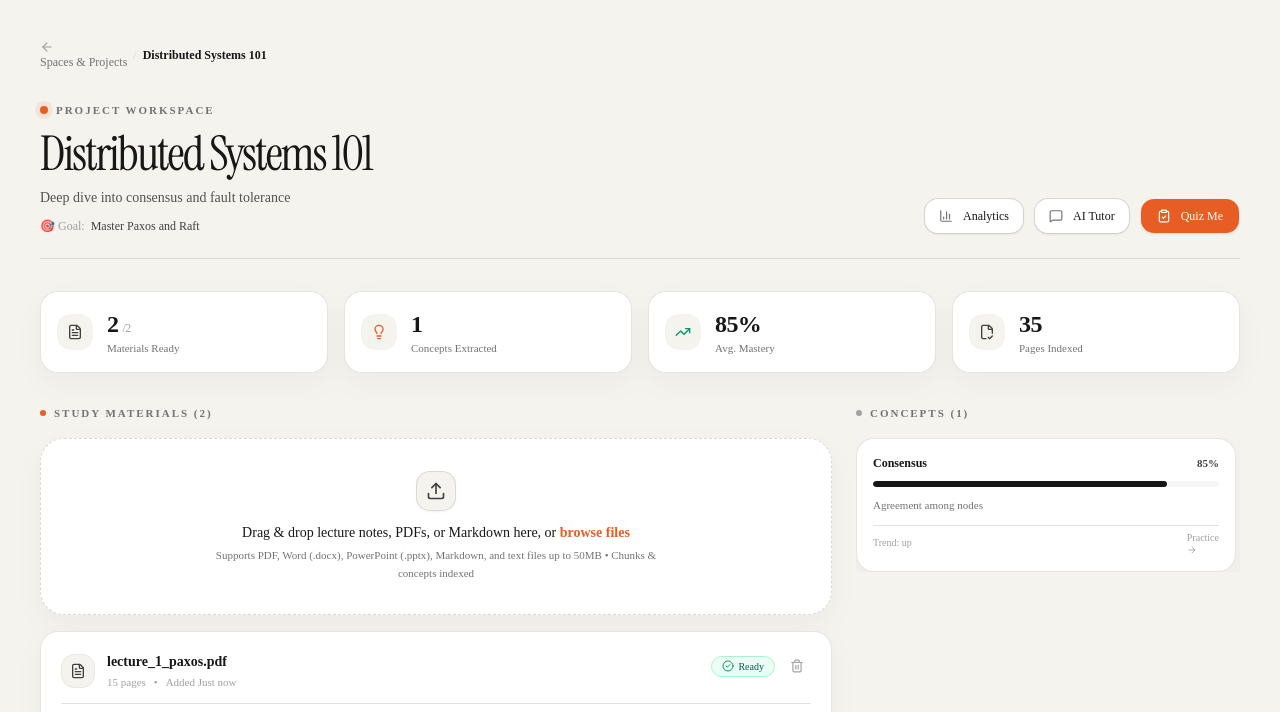
Test: ProjectDetailContent — Real Component-Level Material Deletion Tests › 4. loading state disables buttons and prevents duplicate requests while DELETE is pending
# Open dialog
Step 1. Click the button named "Delete lecture_1_paxos.pdf" → (797, 666), box 783,652 -> 811,680
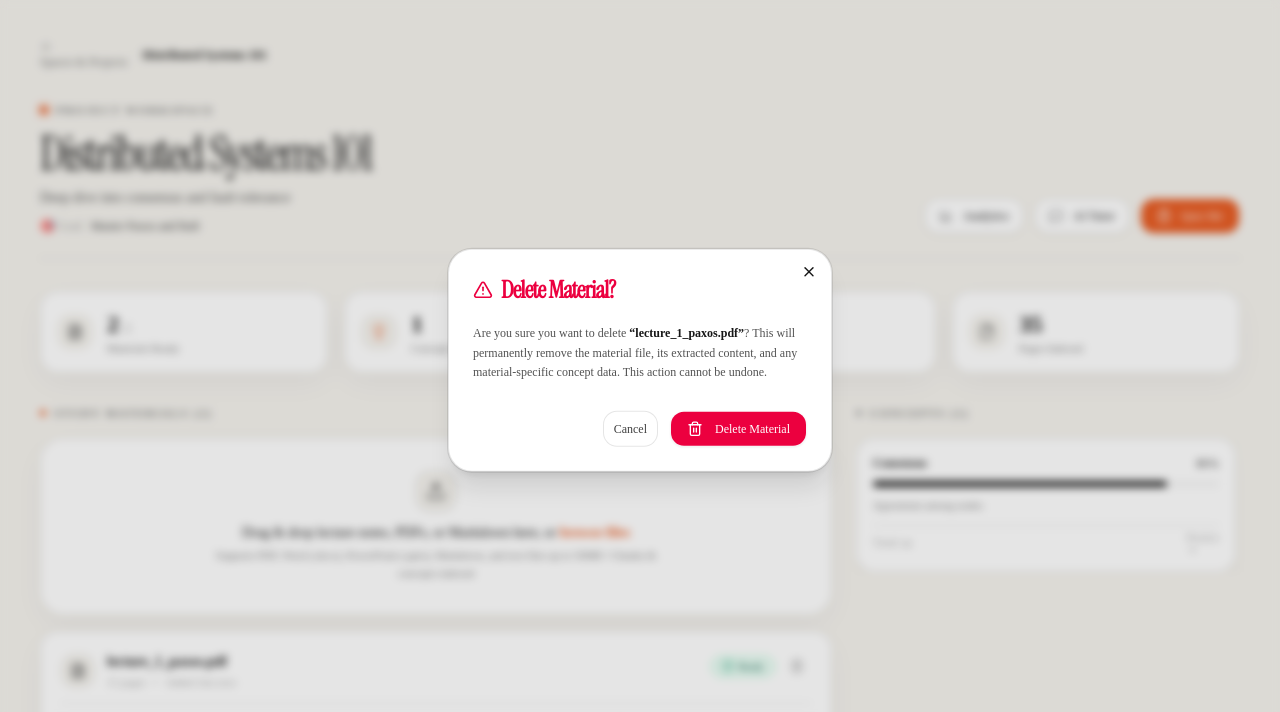
# Click confirm
Step 2. Click the button "Delete Material" → (738, 428), box 670,410 -> 807,446
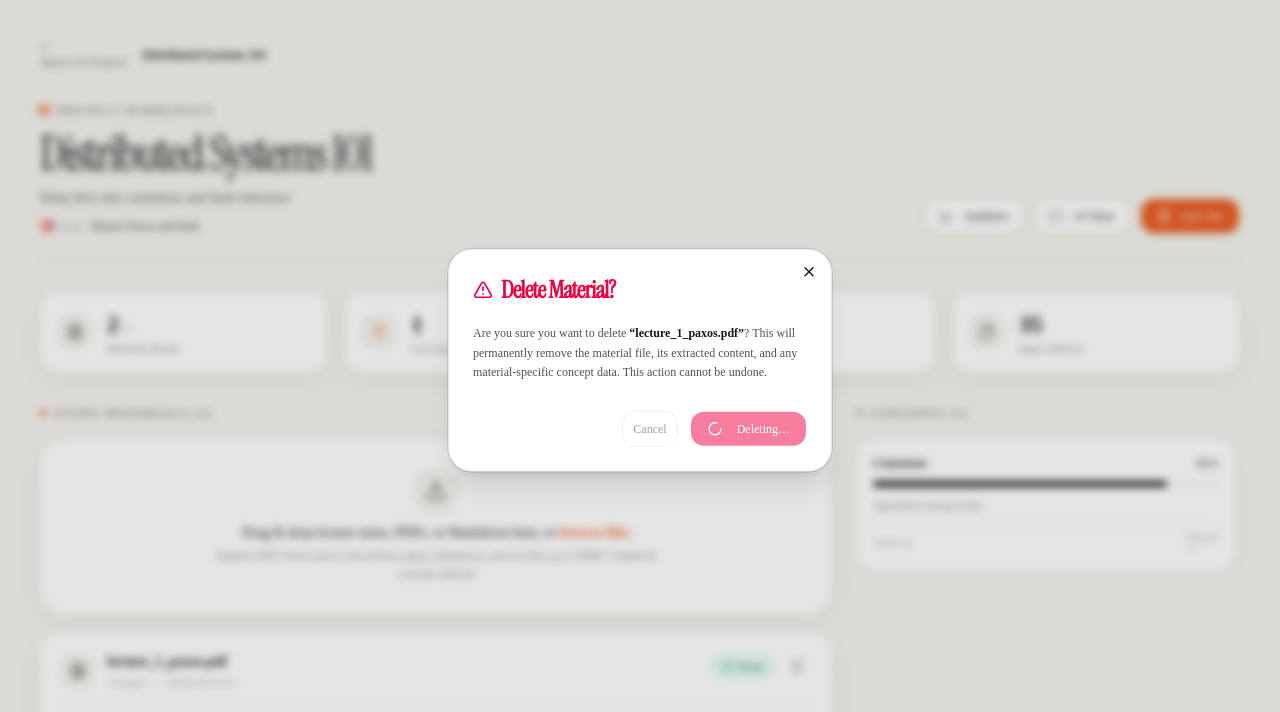
Result: the button "Deleting…" is shown
Result: the button "Cancel" is disabled at 622,410 -> 678,446
Result: the button "Deleting…" is disabled
Step 3. Click the button "Deleting…" → (748, 428), box 690,410 -> 807,446
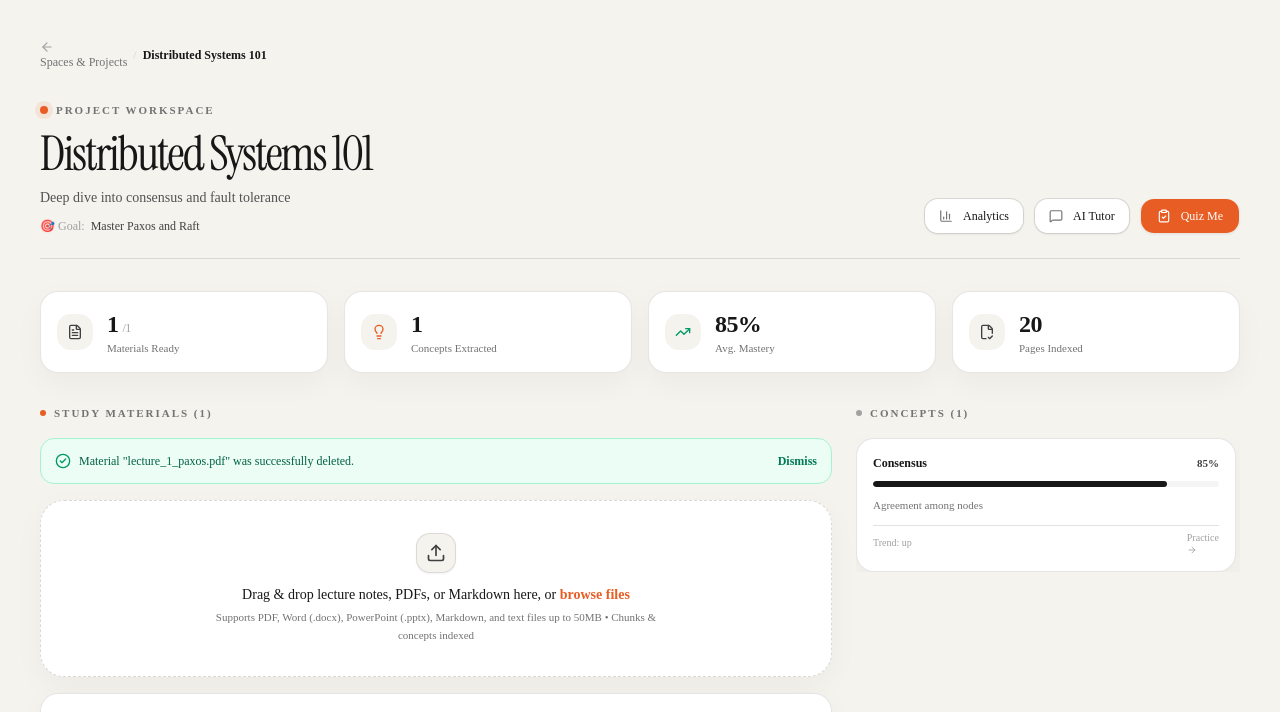
Result: the button "Deleting…" is gone
